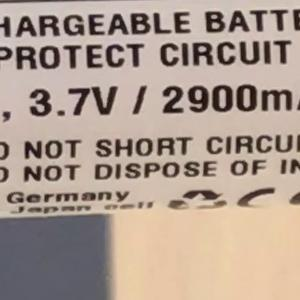keyword: (20, 76, 128, 127)
